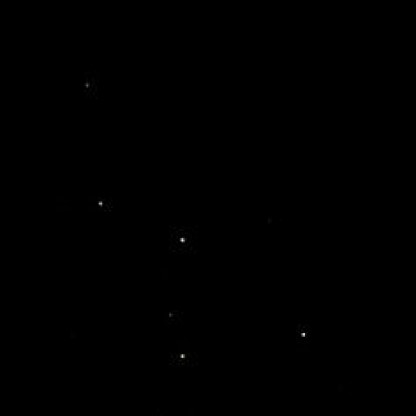Cassiopeia: (160, 305, 194, 371), (289, 321, 320, 347), (85, 188, 113, 212), (171, 230, 194, 247), (78, 74, 97, 94)
